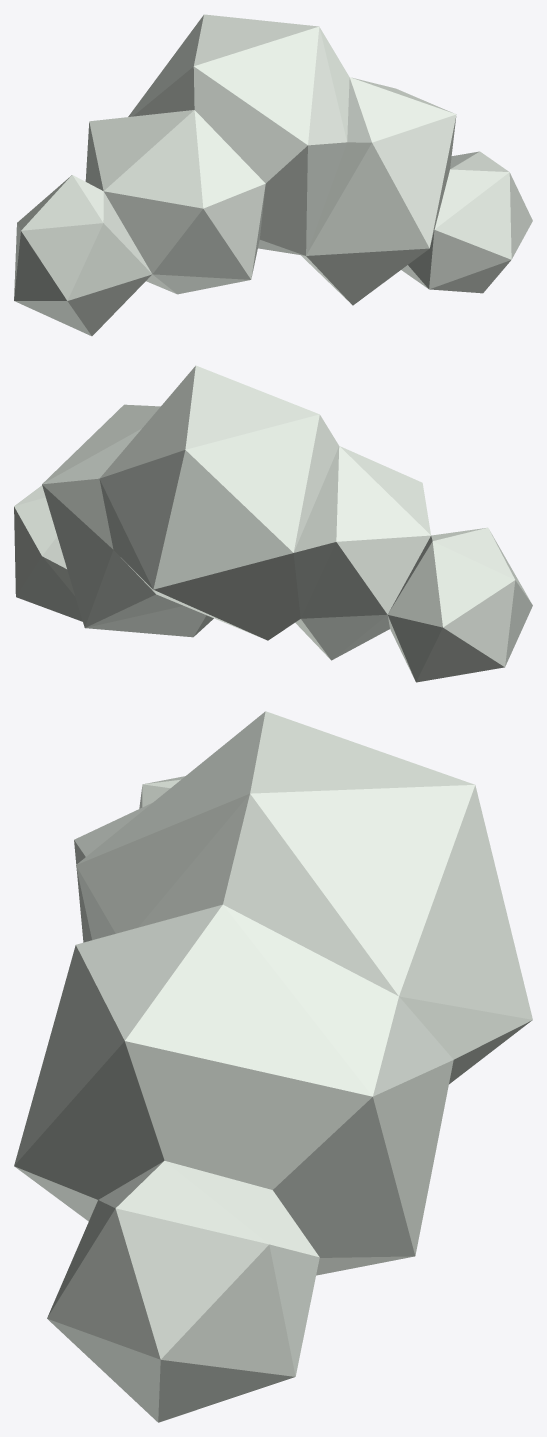
The model's file is TB_CITY_Env_Cloud_C.FBX.
3 renders of one model, top to bottom at view 1: azimuth 30°, elevation 25°; view 2: azimuth 150°, elevation 25°; view 3: azimuth 270°, elevation 25°, orthographic. The views are drawn at different scales.
Visible parts, largest first — view 1: TB_CITY_Env_Cloud_C; view 2: TB_CITY_Env_Cloud_C; view 3: TB_CITY_Env_Cloud_C.
Part boxes in pixels (bbox=[...]): TB_CITY_Env_Cloud_C: bbox=[14, 14, 532, 336]; TB_CITY_Env_Cloud_C: bbox=[14, 365, 532, 682]; TB_CITY_Env_Cloud_C: bbox=[14, 711, 532, 1422].
Size of the model in its own units: 34.33 by 18.93 by 17.54.
